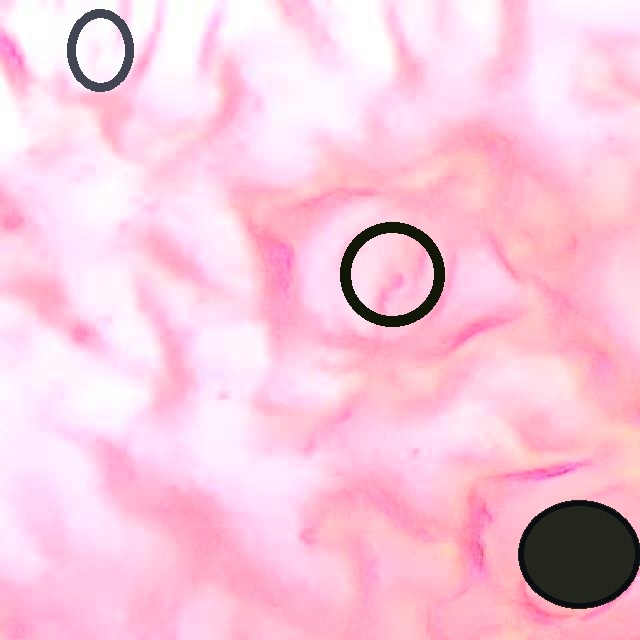close: (340, 222, 445, 326), (65, 9, 135, 92)
open: (518, 500, 640, 608)
